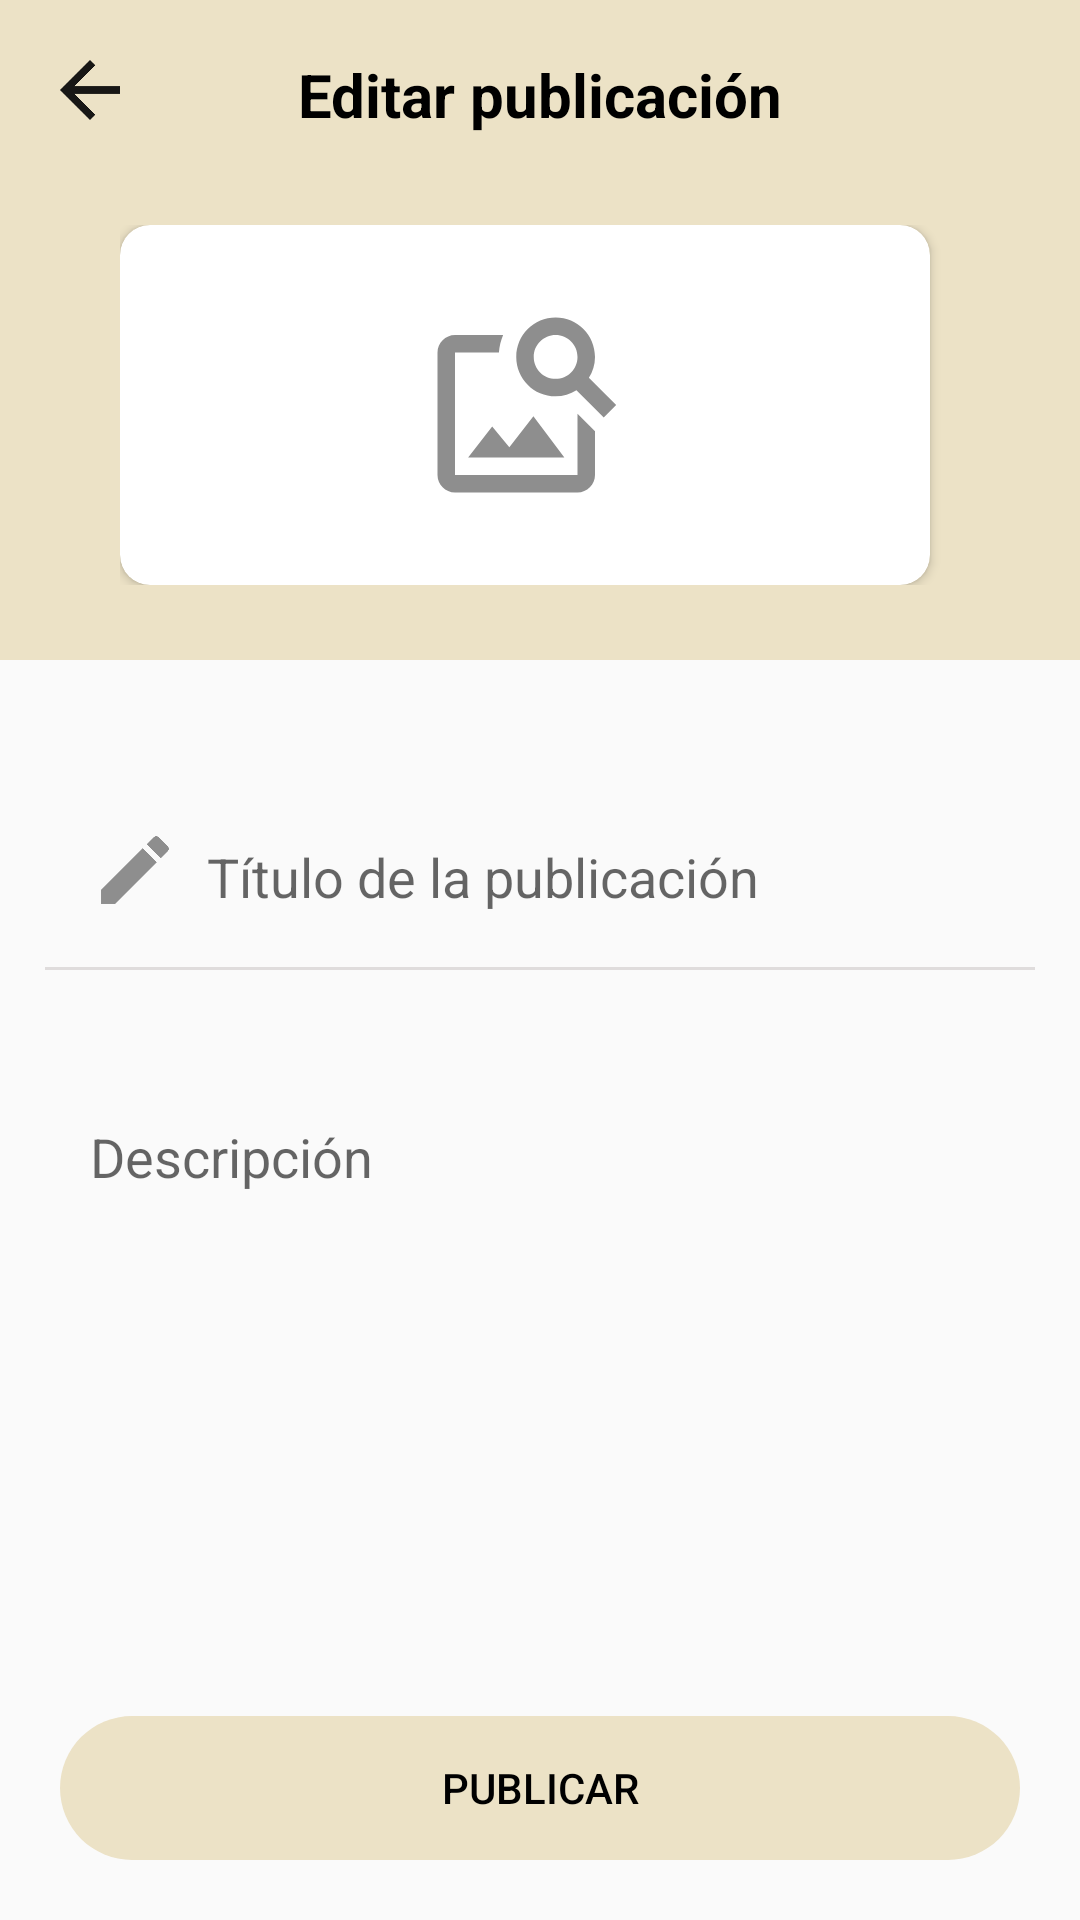

Screen size 1080x1920. Icon name, then its center in pixels as (x=x, y=y):
arrow back: (x=90, y=90)
create: (x=135, y=870)
search: (x=526, y=405)
